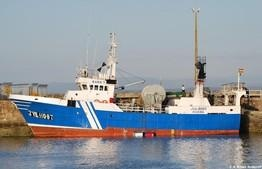otherboat: (4, 7, 248, 145)
